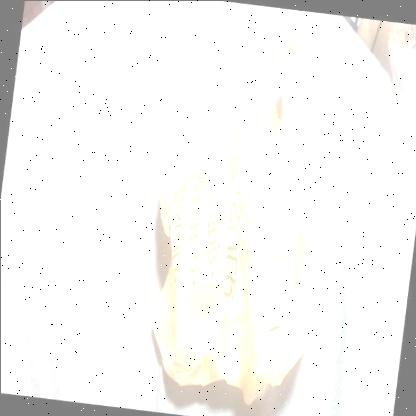Others: (149, 9, 317, 403)
